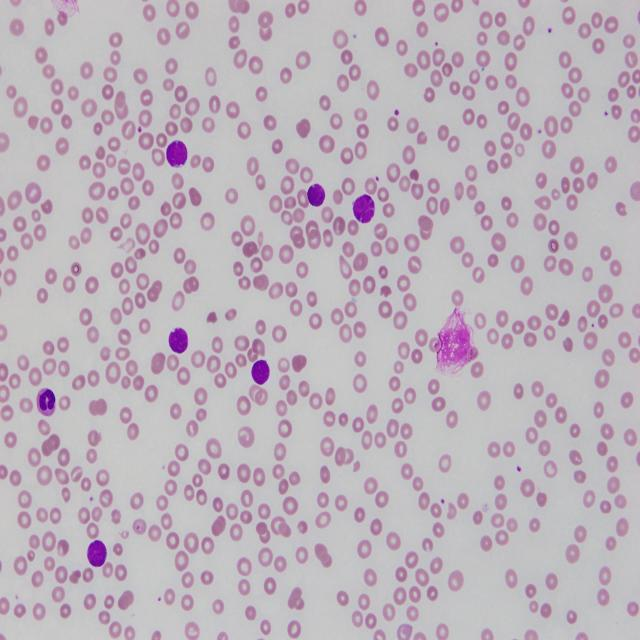cell: (352, 193, 375, 223), (166, 140, 188, 167), (88, 540, 106, 567), (169, 328, 188, 353), (251, 360, 270, 385), (308, 183, 325, 207)
